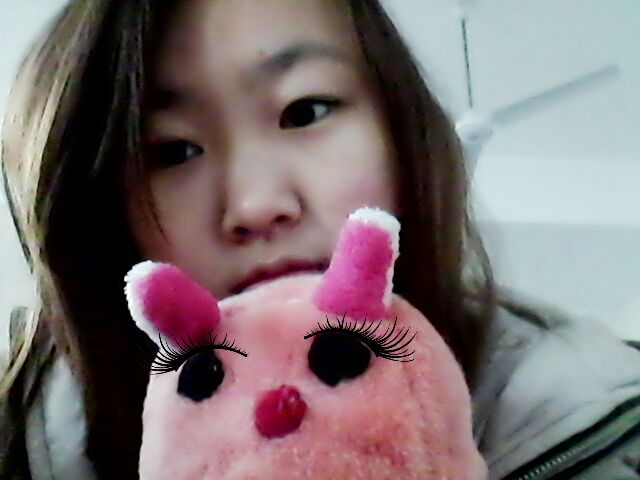face: (103, 1, 415, 365)
